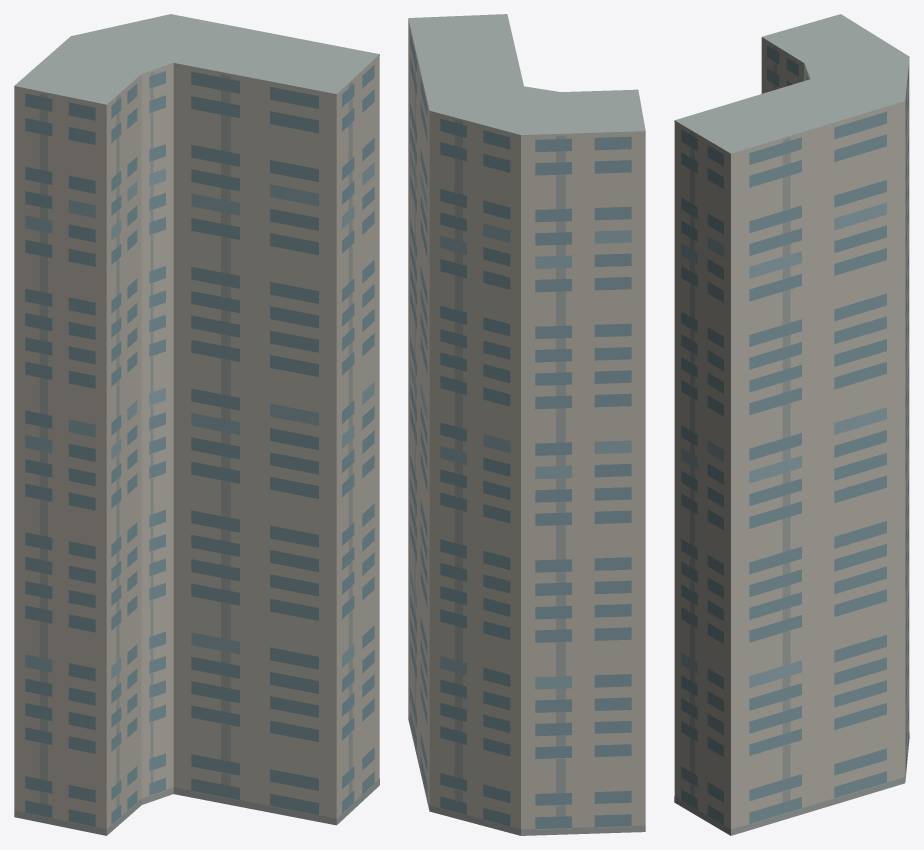
The model's file is residential-d445e117-3951-4e5f-aba1-fdf43fe6bf73.glb.
The picture shows the model from 3 angles, left to right: view 1: azimuth 30°, elevation 25°; view 2: azimuth 150°, elevation 25°; view 3: azimuth 270°, elevation 25°; orthographic projection. The views are drawn at different scales.
Visible parts, largest first — view 1: residential-d445e117-3951-4e5f-aba1-fdf43fe6bf73.tmp; view 2: residential-d445e117-3951-4e5f-aba1-fdf43fe6bf73.tmp; view 3: residential-d445e117-3951-4e5f-aba1-fdf43fe6bf73.tmp.
Part boxes in pixels (x1=…): residential-d445e117-3951-4e5f-aba1-fdf43fe6bf73.tmp: x1=14, y1=14, x2=379, y2=835; residential-d445e117-3951-4e5f-aba1-fdf43fe6bf73.tmp: x1=408, y1=14, x2=645, y2=835; residential-d445e117-3951-4e5f-aba1-fdf43fe6bf73.tmp: x1=674, y1=14, x2=909, y2=835.
Bounding box in the file's own units: 40.39 × 92 × 28.72.
